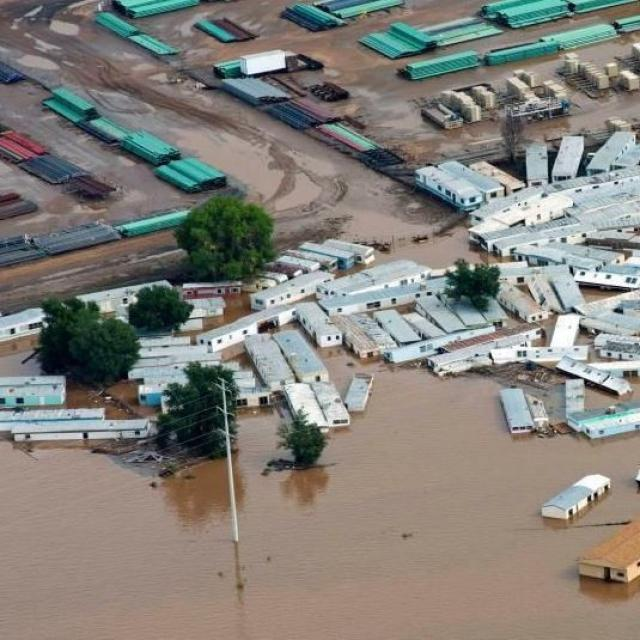flooded_areas: (0, 195, 633, 604)
